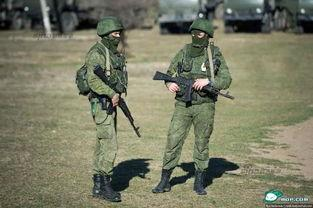up: (149, 16, 236, 195), (67, 14, 141, 202)
